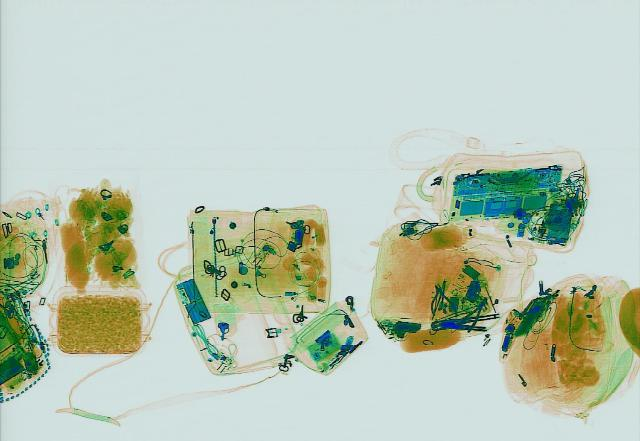Pliers: (454, 294, 494, 331), (422, 281, 456, 317)
